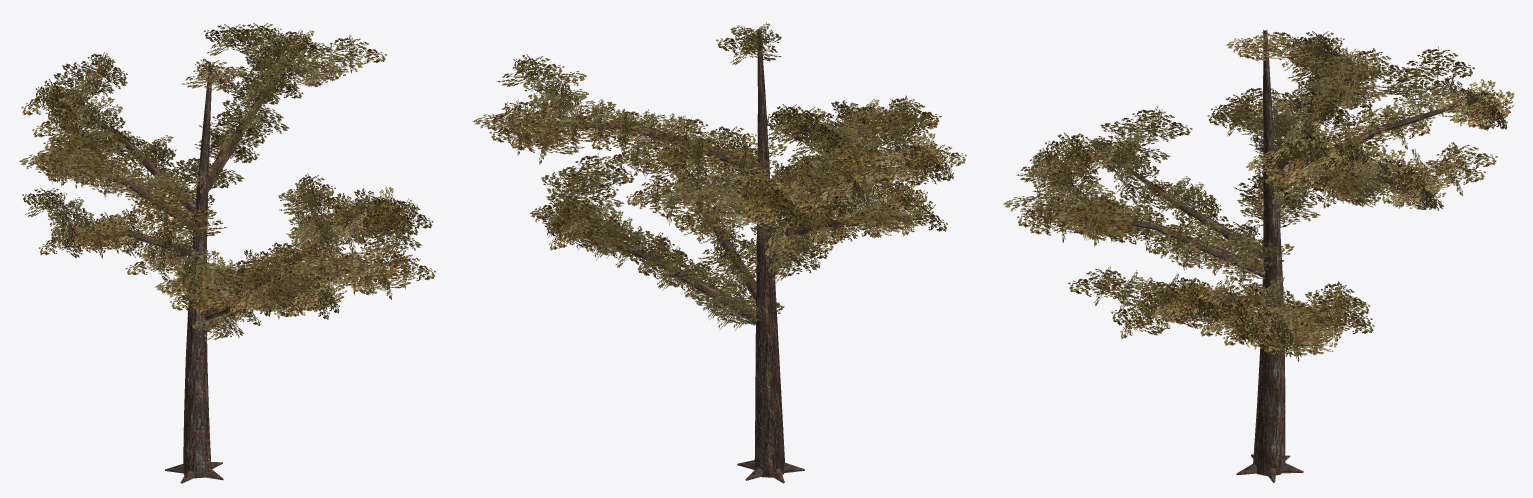
Rendered from tree_3d_04_golden_beige_lod1.glb.
3 renders of one model, left to right at view 1: azimuth 30°, elevation 25°; view 2: azimuth 150°, elevation 25°; view 3: azimuth 270°, elevation 25°, orthographic. The views are drawn at different scales.
Visible parts, largest first — view 1: foliage_cards, wood_geometry; view 2: foliage_cards, wood_geometry; view 3: foliage_cards, wood_geometry.
Boxes of the visible parts, box(x1,y1,x2,y2) form: foliage_cards: box(19, 22, 435, 341); wood_geometry: box(66, 46, 410, 483); foliage_cards: box(472, 22, 966, 330); wood_geometry: box(511, 30, 904, 483); foliage_cards: box(1003, 31, 1514, 361); wood_geometry: box(1047, 30, 1473, 482).
Bounding box in the file's own units: 8.12 × 8.31 × 8.72.
2 materials, 2 textured.
